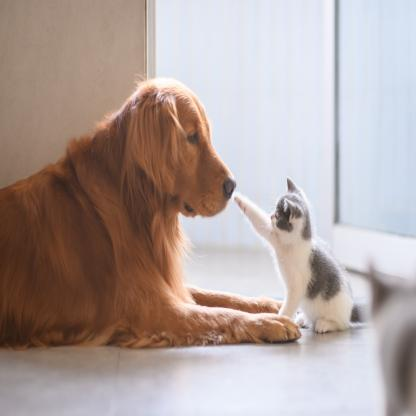dog: (110, 61, 250, 260)
